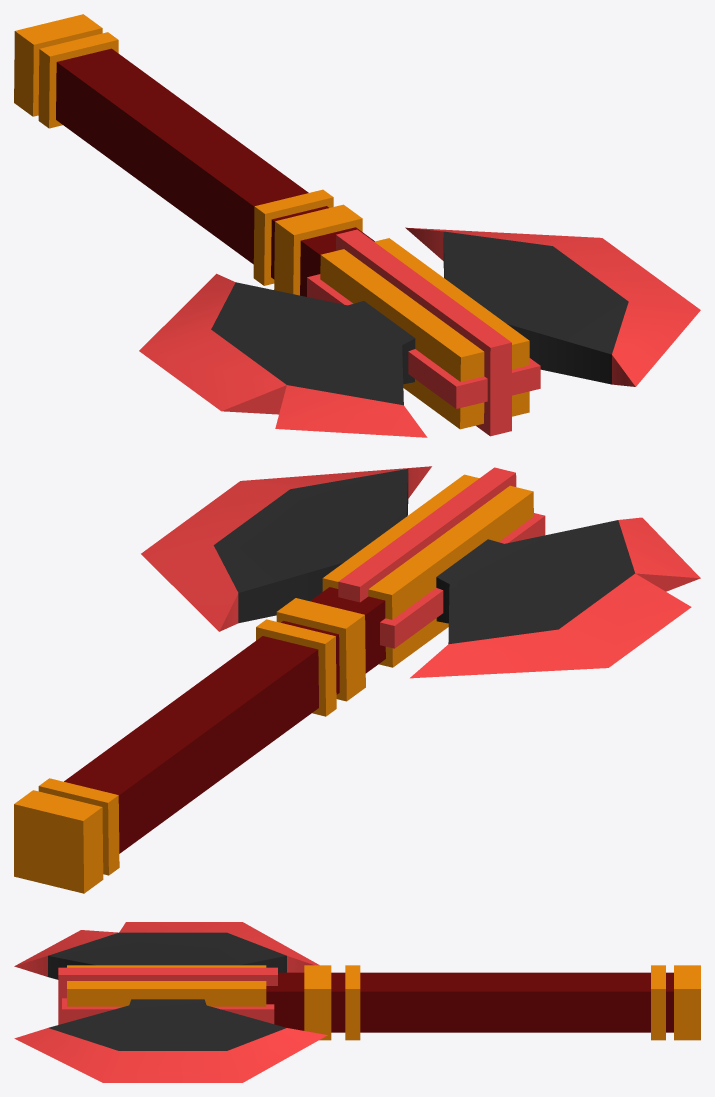
File: Axe 03.FBX
3 renders of one model, top to bottom at view 1: azimuth 30°, elevation 25°; view 2: azimuth 150°, elevation 25°; view 3: azimuth 270°, elevation 25°, orthographic. The views are drawn at different scales.
Visible parts, largest first — view 1: Axe 03; view 2: Axe 03; view 3: Axe 03.
Boxes of the visible parts, box(x1,y1,x2,y2) form: Axe 03: box(14, 14, 700, 437); Axe 03: box(14, 466, 700, 893); Axe 03: box(14, 922, 700, 1082).
Bounding box in the file's own units: 36.45 × 6.65 × 65.84.
